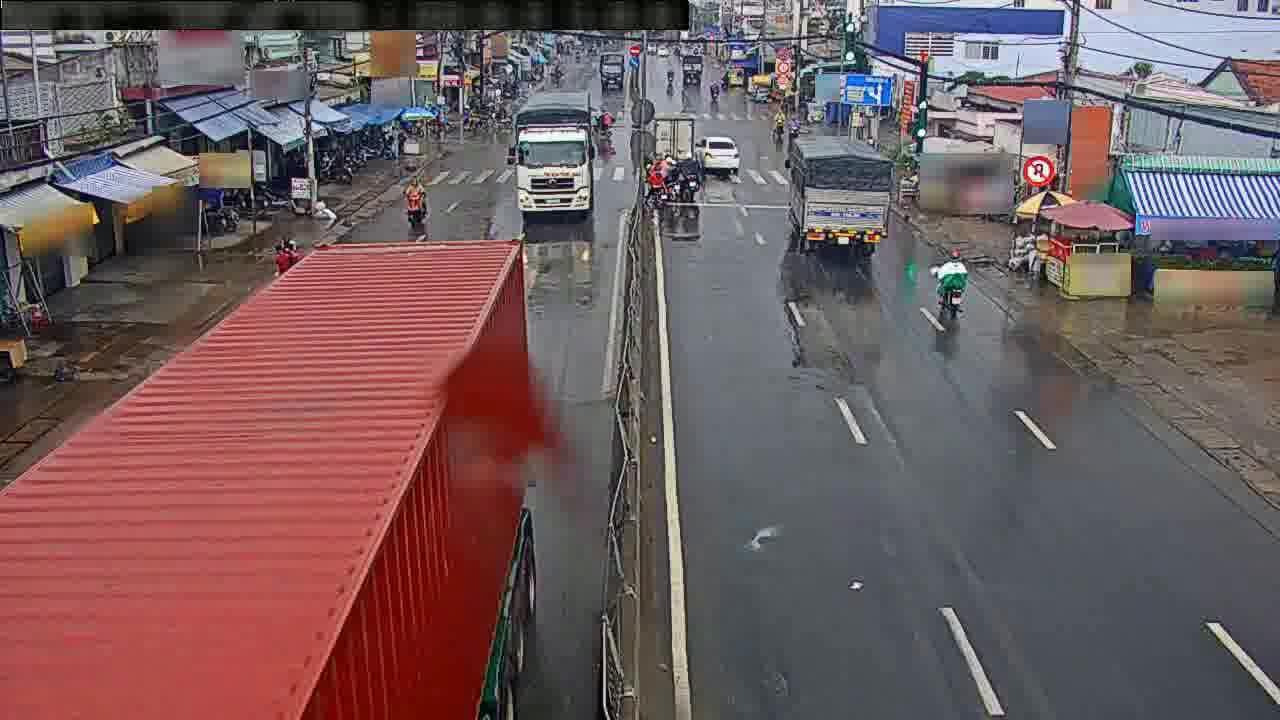8: (0, 245, 521, 720), (788, 132, 890, 258), (514, 90, 594, 221), (656, 114, 693, 167)
container: (701, 135, 740, 167)
motorbike: (933, 244, 967, 322), (275, 243, 297, 301), (400, 176, 426, 219), (683, 150, 702, 195), (660, 157, 682, 191), (645, 169, 660, 208)
